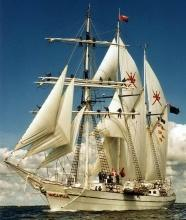fanchuan: (5, 10, 173, 214)
